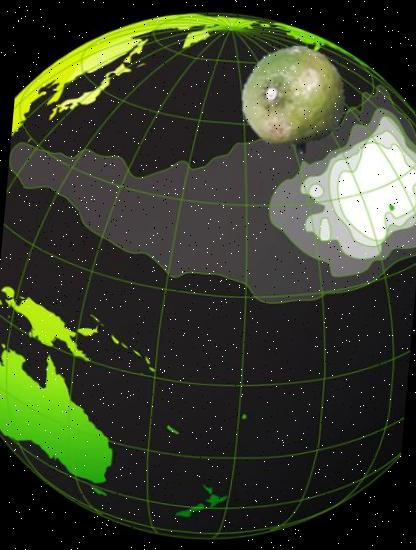Limes: (235, 42, 352, 158)
